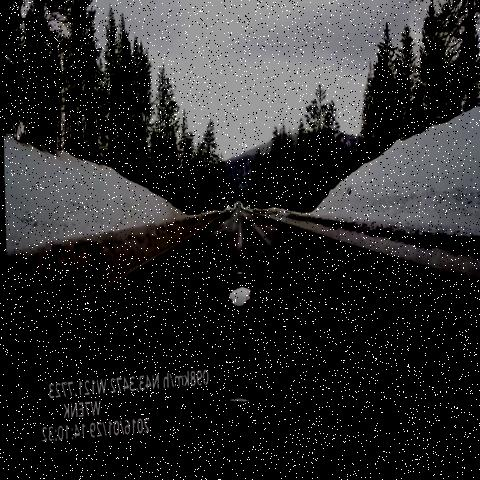pothole: (223, 274, 256, 321), (220, 338, 253, 380)
